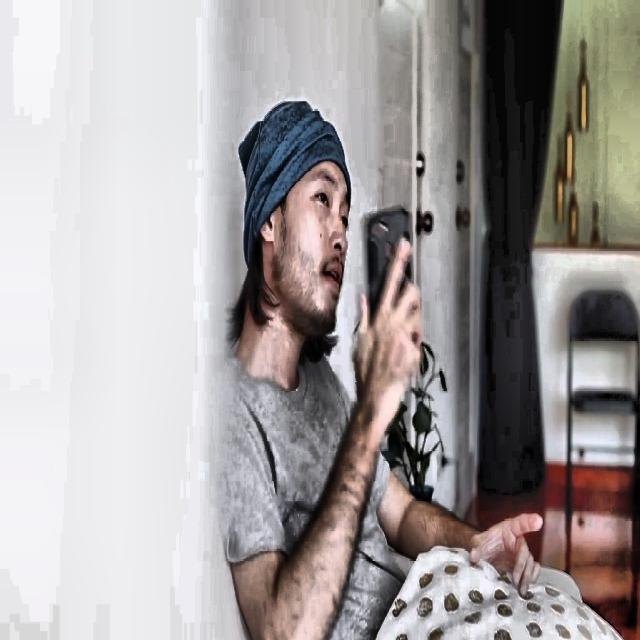Phone: (367, 206, 412, 322)
